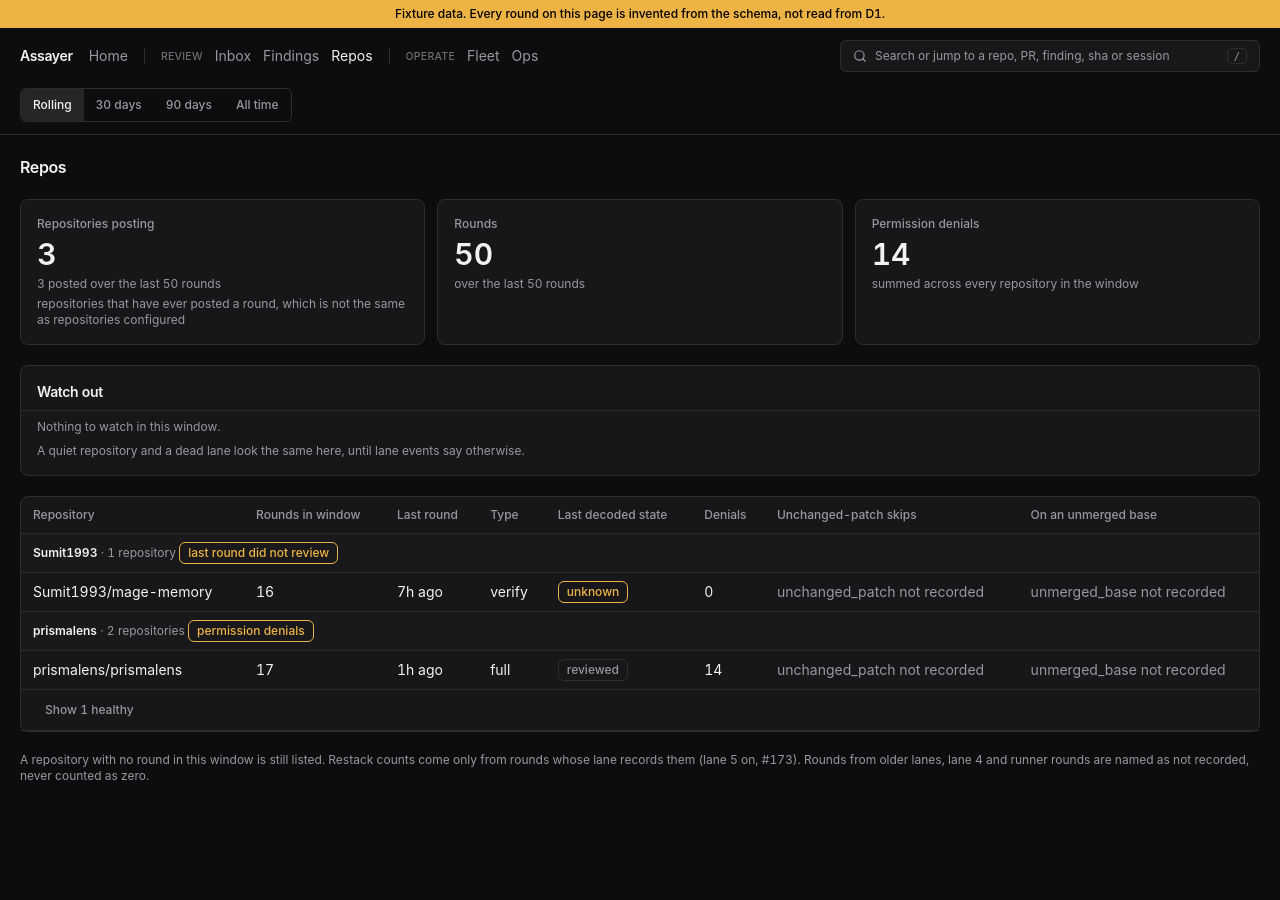
/repos › lists what has posted, with its last round and last decoded state
Click the button "Show 1 healthy".
click(89, 710)  # box [33, 694, 146, 726]
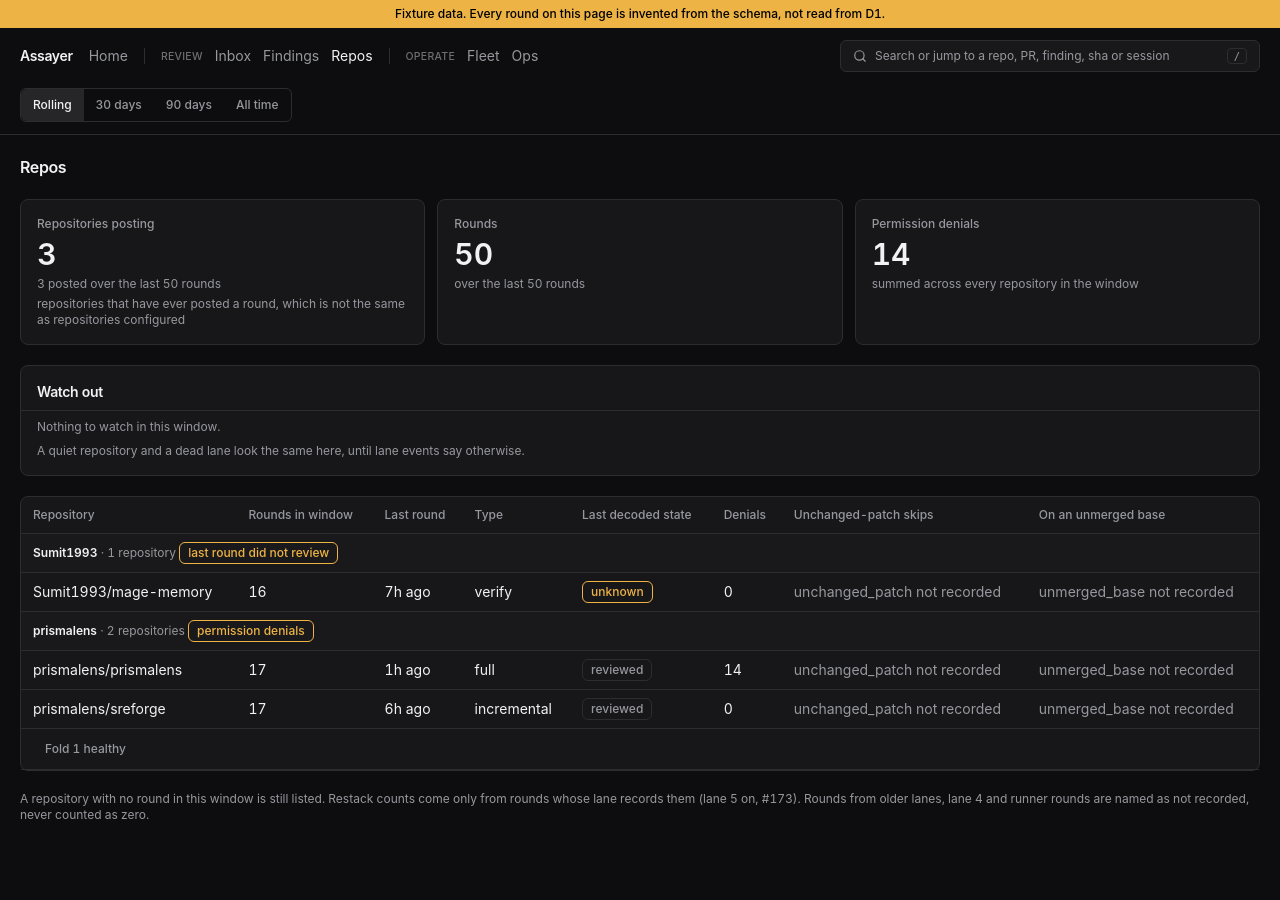
Expected: the text "reviewed" in the row of "prismalens/prismalens" is shown, [591, 662, 643, 676]
Now the link "prismalens/sreforge" is shown, box [33, 700, 166, 716]
